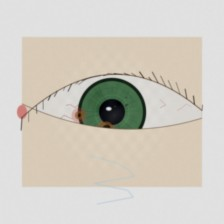foreign_body_visible: (69, 107, 89, 123)
